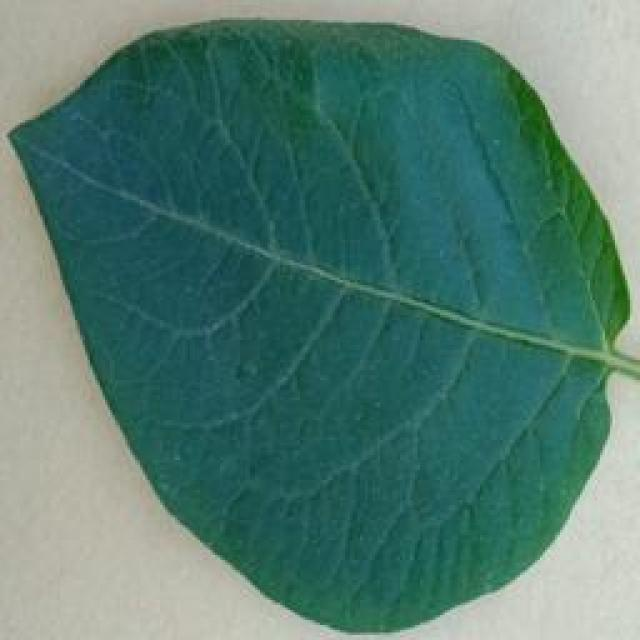Potato_Healthy: (3, 19, 620, 634)
